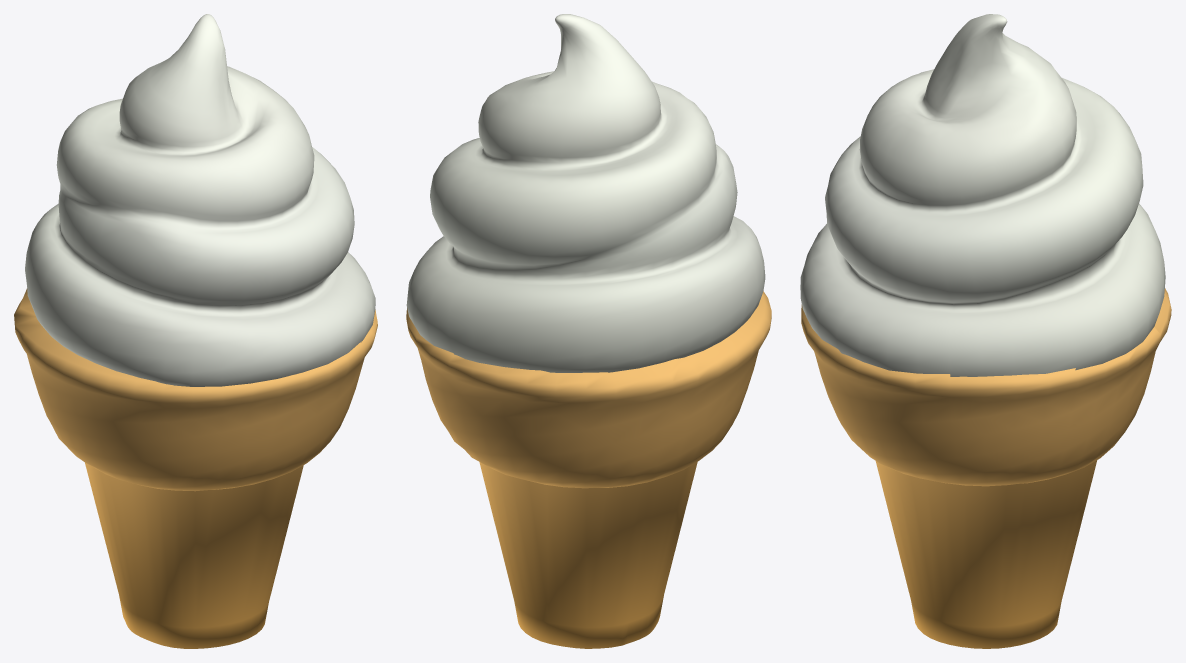
File: IceCream_0001_0004.fbx
3 views of the same model, side by side, from view 1: azimuth 30°, elevation 25°; view 2: azimuth 150°, elevation 25°; view 3: azimuth 270°, elevation 25° (orthographic). The views are drawn at different scales.
Parts seen in each view (by area): view 1: Ice_0001_0004; view 2: Ice_0001_0004; view 3: Ice_0001_0004.
Part boxes in pixels (box(x1,y1,x2,y2)): Ice_0001_0004: box(14, 14, 377, 648); Ice_0001_0004: box(406, 14, 771, 648); Ice_0001_0004: box(800, 14, 1171, 648).
Size of the model in its own units: 0.0845 by 0.1546 by 0.085.
Materials: 1 (1 with a texture image).
